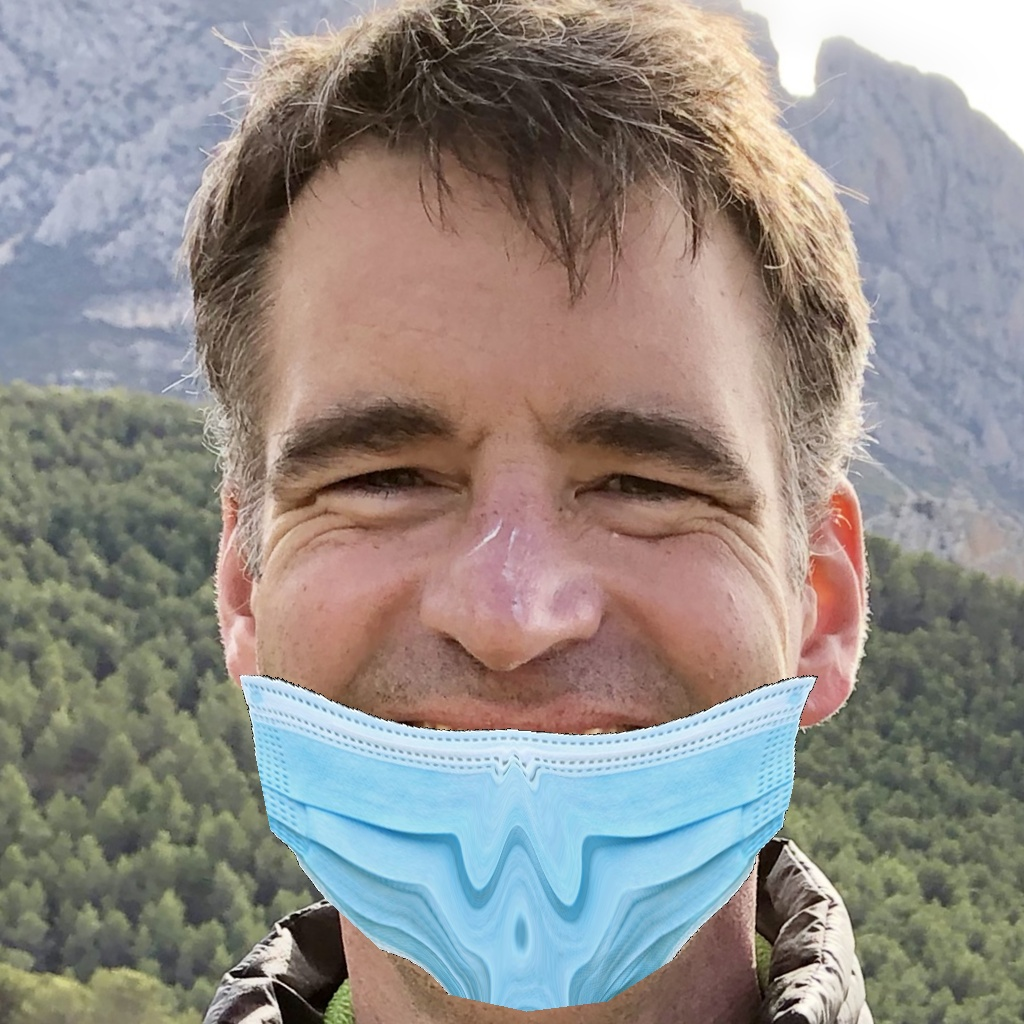mascarilla_mal_puesta: (219, 345, 869, 1023)
